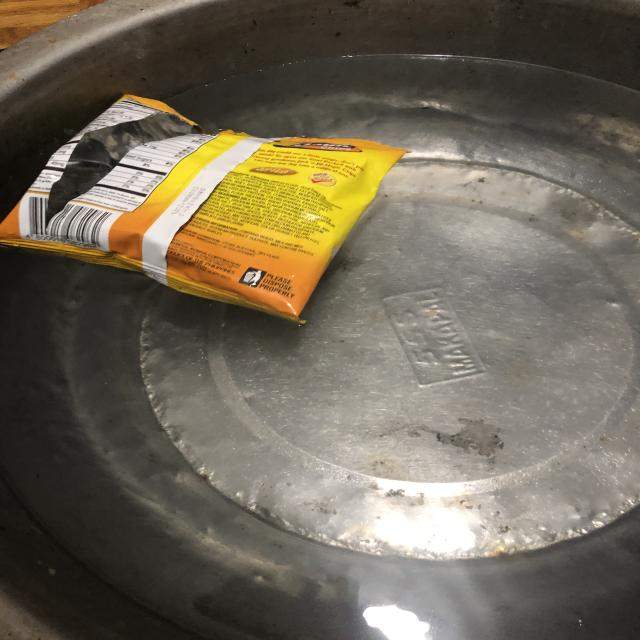Plastic Wrapper: (0, 82, 425, 338)
